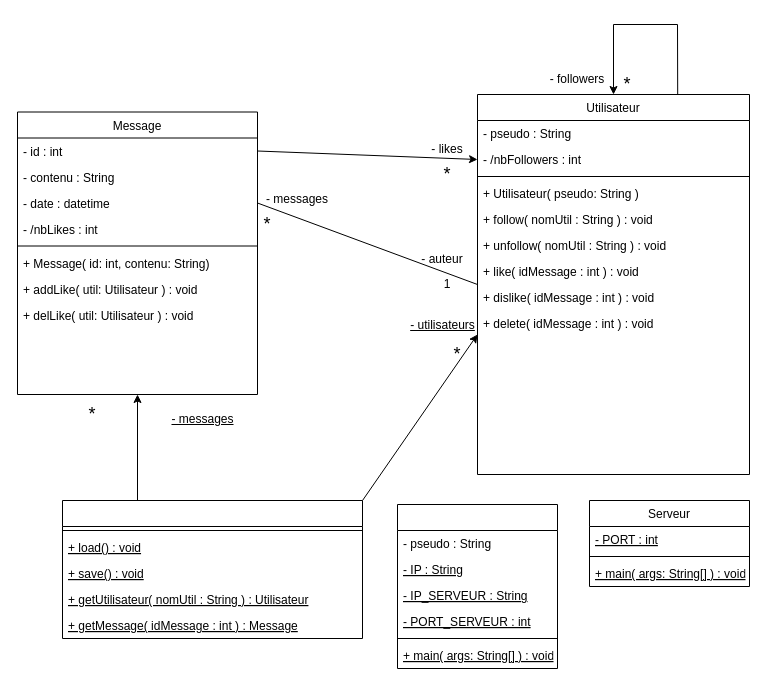
This 767x689 diagram has some shape labels left out. Each missing label, with the box of its shape:
BDServeur: (62, 500, 362, 638)
Client: (396, 504, 558, 668)
